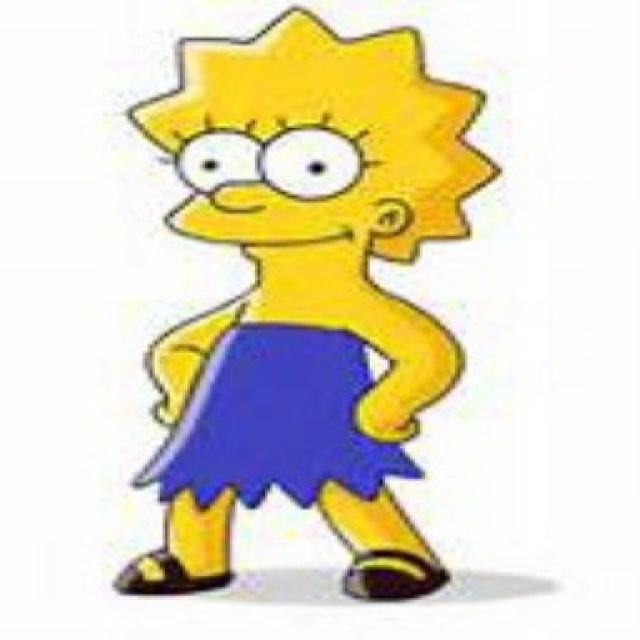Lisa Simpson: (124, 4, 511, 296)
